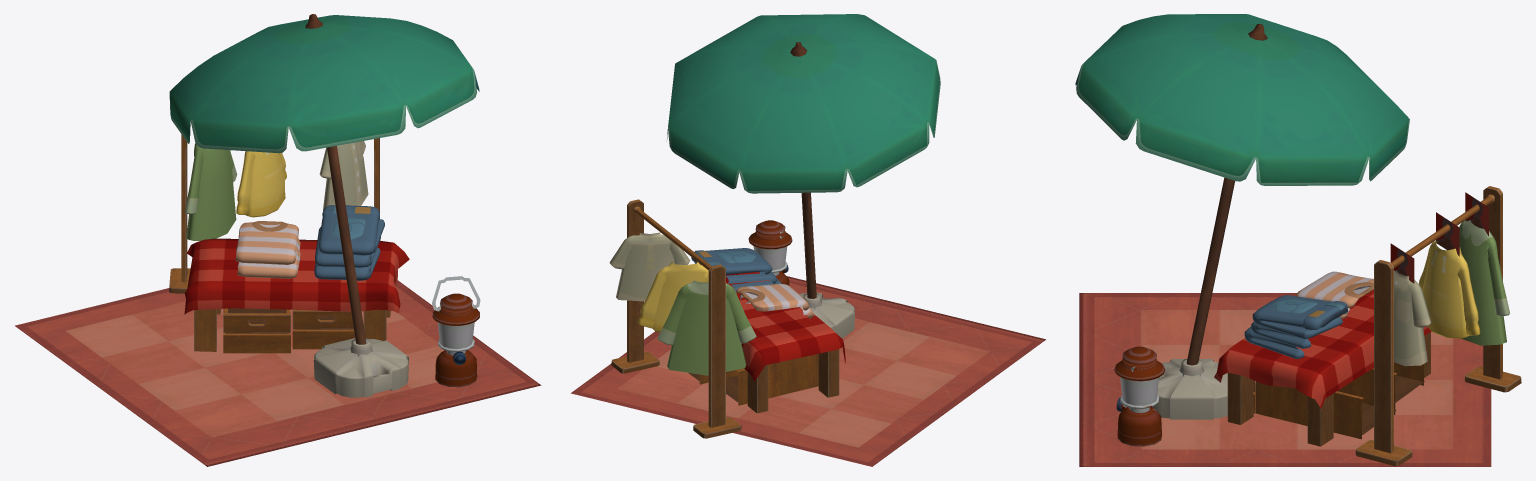
The model's file is EvtobjStallHgh.glb.
3 views of the same model, side by side, from view 1: azimuth 30°, elevation 25°; view 2: azimuth 150°, elevation 25°; view 3: azimuth 270°, elevation 25° (orthographic). The views are drawn at different scales.
Visible parts, largest first — view 1: kinuyo_Carpet_Low32__mCarpet, Base__mNoRain, PlayerTopsTopCoatL_NS1__mNoRain; view 2: kinuyo_Carpet_Low32__mCarpet, Base__mNoRain, PlayerTopsTopCoatL_NS1__mNoRain; view 3: kinuyo_Carpet_Low32__mCarpet, Base__mNoRain, PlayerTopsTopCoatL_NS1__mNoRain.
Boxes of the visible parts, bbox=[...] form: kinuyo_Carpet_Low32__mCarpet: bbox=[15, 14, 541, 466]; Base__mNoRain: bbox=[169, 134, 480, 397]; PlayerTopsTopCoatL_NS1__mNoRain: bbox=[185, 141, 368, 240]; kinuyo_Carpet_Low32__mCarpet: bbox=[571, 14, 1045, 466]; Base__mNoRain: bbox=[611, 192, 854, 438]; PlayerTopsTopCoatL_NS1__mNoRain: bbox=[609, 232, 756, 375]; kinuyo_Carpet_Low32__mCarpet: bbox=[1075, 14, 1491, 466]; Base__mNoRain: bbox=[1114, 177, 1521, 466]; PlayerTopsTopCoatL_NS1__mNoRain: bbox=[1394, 220, 1510, 366].
Bounding box in the file's own units: 20 × 19.7 × 21.66.
2 materials, 2 textured.
